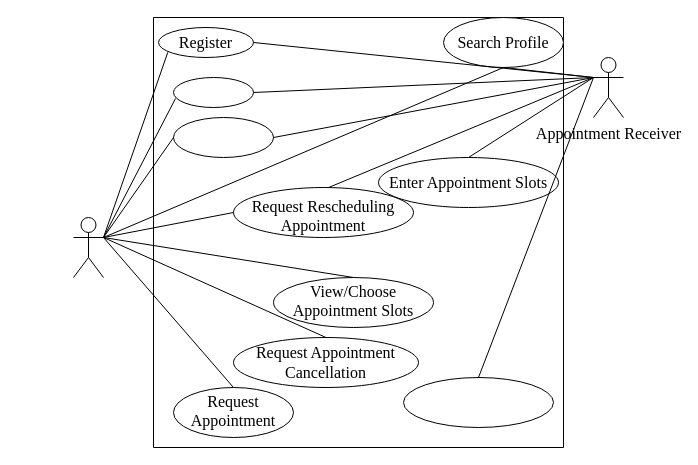
Some shapes in this 698 by 465 pixel diagram are drawn without their labels. The shapes that lost their labels are listed below. From the top down, each one's box as (x1, y1, x2, y2) in pixels, then its label:
(172, 76, 254, 108): Login
(172, 116, 274, 158): View Profile
(72, 216, 104, 278): Appointment Schedular
(402, 376, 554, 428): Cancel Appointment Slots
